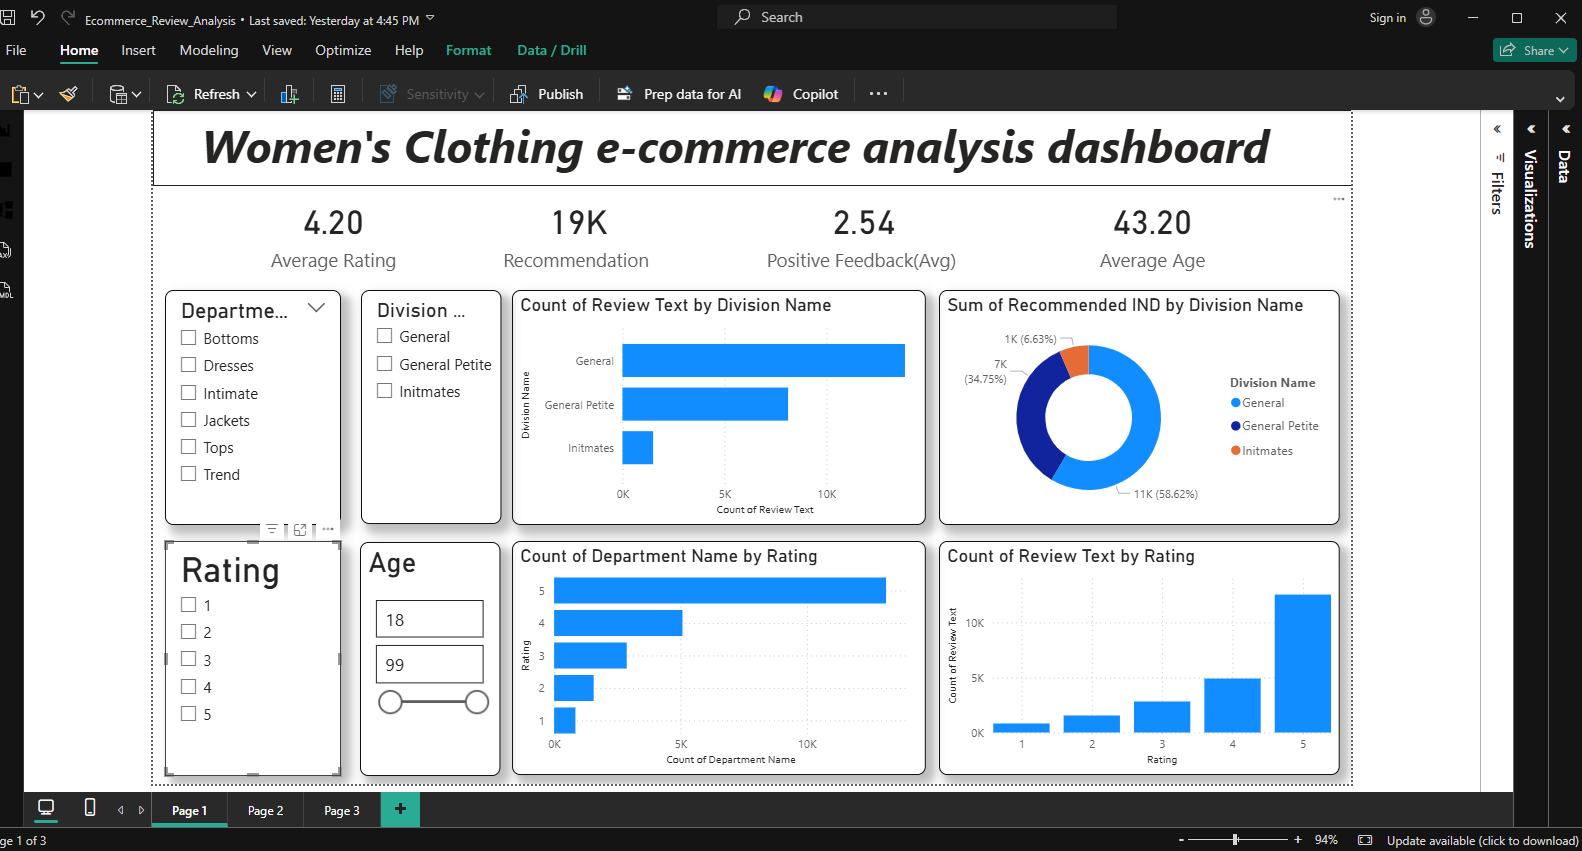

The dashboard page shown, as its layout file describes it:
{"tool":"powerbi","page":{"name":"Page 1","canvas":[1280,720],"ordinal":0},"visuals":[{"type":"card","fields":{"Values":["Avg(Womens_Clothing_Cleaned.Rating)"]},"box":[75.8,81.2,233.9,98.3],"z":0},{"type":"card","fields":{"Values":["Avg(Womens_Clothing_Cleaned.Positive Feedback Count)"]},"box":[639.9,81.2,239.3,98.3],"z":1000},{"type":"card","fields":{"Values":["Sum(Womens_Clothing_Cleaned.Recommended IND)"]},"box":[344.8,80.9,219.3,98.5],"z":2000},{"type":"card","fields":{"Values":["Avg(Womens_Clothing_Cleaned.Age)"]},"box":[952.9,81.2,229.7,98.3],"z":3000},{"type":"textbox","box":[0,0,1280.5,80.9],"z":4000},{"type":"clusteredColumnChart","fields":{"Category":["Womens_Clothing_Cleaned.Rating"],"Y":["Count(Womens_Clothing_Cleaned.Review Text)"]},"box":[840.1,460.8,427.8,249.6],"z":4001},{"type":"donutChart","fields":{"Category":["Womens_Clothing_Cleaned.Division Name"],"Y":["Sum(Womens_Clothing_Cleaned.Recommended IND)"]},"box":[840.1,192.4,427.8,250.7],"z":4002},{"type":"clusteredBarChart","fields":{"Y":["CountNonNull(Womens_Clothing_Cleaned.Department Name)"],"Category":["Womens_Clothing_Cleaned.Rating"]},"box":[383.8,460.8,442.1,249.6],"z":4003},{"type":"clusteredBarChart","fields":{"Category":["Womens_Clothing_Cleaned.Division Name"],"Y":["CountNonNull(Womens_Clothing_Cleaned.Review Text)"]},"box":[383.8,192.4,442.1,250.7],"z":4004},{"type":"slicer","fields":{"Values":["Womens_Clothing_Cleaned.Department Name"]},"box":[13.2,192.4,188,250.7],"z":4005},{"type":"slicer","fields":{"Values":["Womens_Clothing_Cleaned.Division Name"]},"box":[222.1,192.4,149.6,249.6],"z":4006},{"type":"slicer","title":"Age","fields":{"Values":["Womens_Clothing_Cleaned.Age"]},"box":[221,461,150,250],"z":4007},{"type":"slicer","fields":{"Values":["Womens_Clothing_Cleaned.Rating"]},"box":[13.2,460.8,188,250.7],"z":4008}]}

Visuals, with their boxes on the page's 1280x720 design canvas (x1, y1, x2, y2). These are canvas units, not pixel positions in the 1582x851 screenshot, which may show the page scaled, cropped or inside an application window:
card - Avg(Womens_Clothing_Cleaned.Rating): bbox=(76, 81, 310, 180)
card - Avg(Womens_Clothing_Cleaned.Positive Feedback Count): bbox=(640, 81, 879, 180)
card - Sum(Womens_Clothing_Cleaned.Recommended IND): bbox=(345, 81, 564, 179)
card - Avg(Womens_Clothing_Cleaned.Age): bbox=(953, 81, 1183, 180)
textbox: bbox=(0, 0, 1280, 81)
clusteredColumnChart - Womens_Clothing_Cleaned.Rating x Count(Womens_Clothing_Cleaned.Review Text): bbox=(840, 461, 1268, 710)
donutChart - Womens_Clothing_Cleaned.Division Name x Sum(Womens_Clothing_Cleaned.Recommended IND): bbox=(840, 192, 1268, 443)
clusteredBarChart - CountNonNull(Womens_Clothing_Cleaned.Department Name) x Womens_Clothing_Cleaned.Rating: bbox=(384, 461, 826, 710)
clusteredBarChart - Womens_Clothing_Cleaned.Division Name x CountNonNull(Womens_Clothing_Cleaned.Review Text): bbox=(384, 192, 826, 443)
slicer - Womens_Clothing_Cleaned.Department Name: bbox=(13, 192, 201, 443)
slicer - Womens_Clothing_Cleaned.Division Name: bbox=(222, 192, 372, 442)
"Age" slicer: bbox=(221, 461, 371, 711)
slicer - Womens_Clothing_Cleaned.Rating: bbox=(13, 461, 201, 712)
